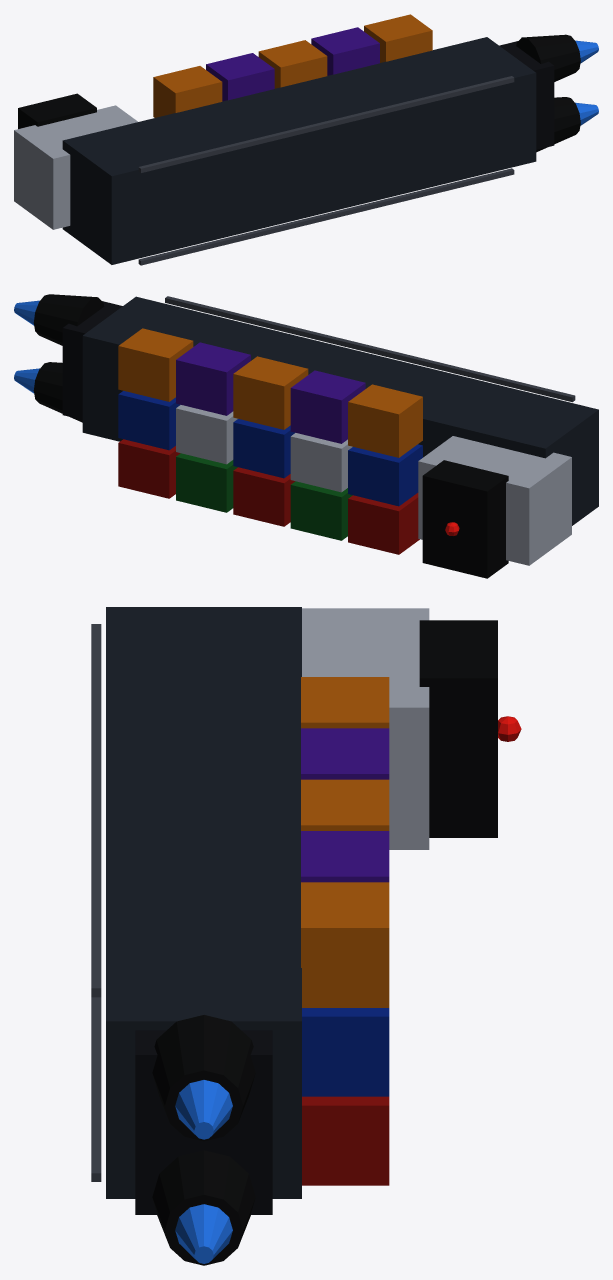
The model's file is freighter.glb.
3 views of the same model, one above another, from view 1: azimuth 30°, elevation 25°; view 2: azimuth 150°, elevation 25°; view 3: azimuth 270°, elevation 25° (orthographic). The views are drawn at different scales.
Visible parts, largest first — view 1: freighter; view 2: freighter; view 3: freighter.
Boxes of the visible parts, x1,y1,x2,y2 form: freighter: (14, 14, 598, 265); freighter: (14, 294, 598, 578); freighter: (91, 607, 521, 1265).
Bounding box in the file's own units: 1.67 × 0.3897 × 0.59.
